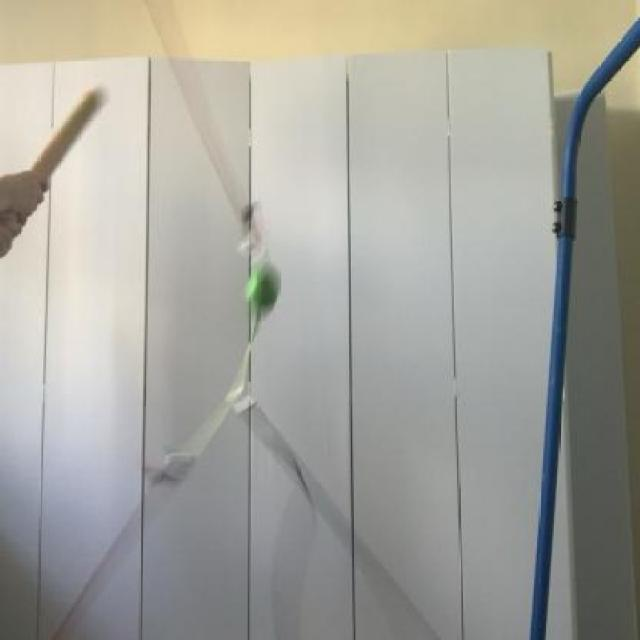baseball: (242, 252, 278, 316)
